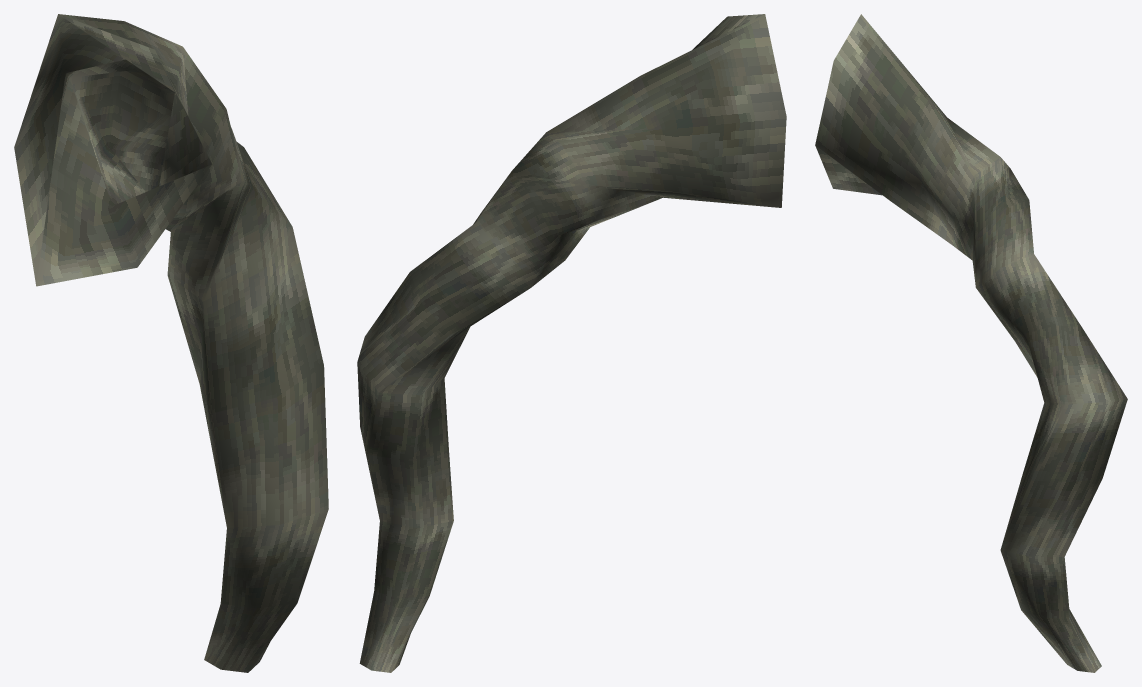
File: TROLLHOLE02_ROOTMAINA10.fbx
3 views of the same model, side by side, from view 1: azimuth 30°, elevation 25°; view 2: azimuth 150°, elevation 25°; view 3: azimuth 270°, elevation 25° (orthographic). The views are drawn at different scales.
Visible parts, largest first — view 1: TROLLHOLE02_ROOTMAINA10; view 2: TROLLHOLE02_ROOTMAINA10; view 3: TROLLHOLE02_ROOTMAINA10.
Part boxes in pixels (x1=…): TROLLHOLE02_ROOTMAINA10: x1=14, y1=14, x2=328, y2=672; TROLLHOLE02_ROOTMAINA10: x1=357, y1=14, x2=786, y2=672; TROLLHOLE02_ROOTMAINA10: x1=815, y1=14, x2=1127, y2=672.
Bounding box in the file's own units: 31084 × 58644 × 30641.
1 material, 1 textured.
